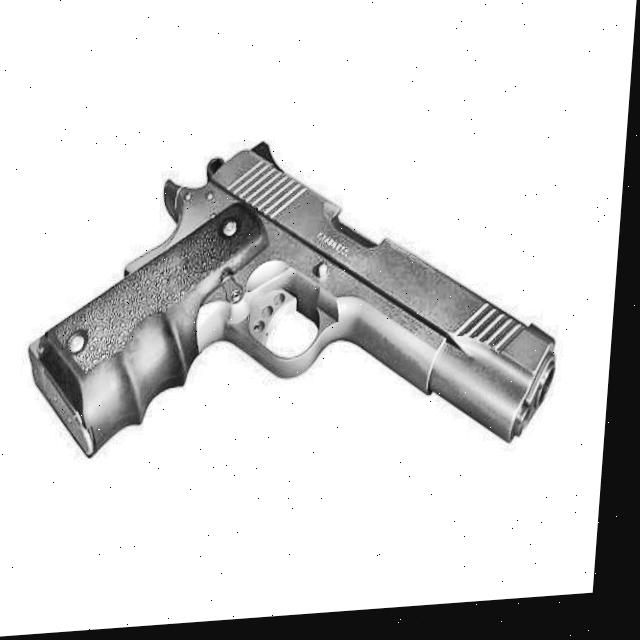pistol: (11, 110, 584, 520)
